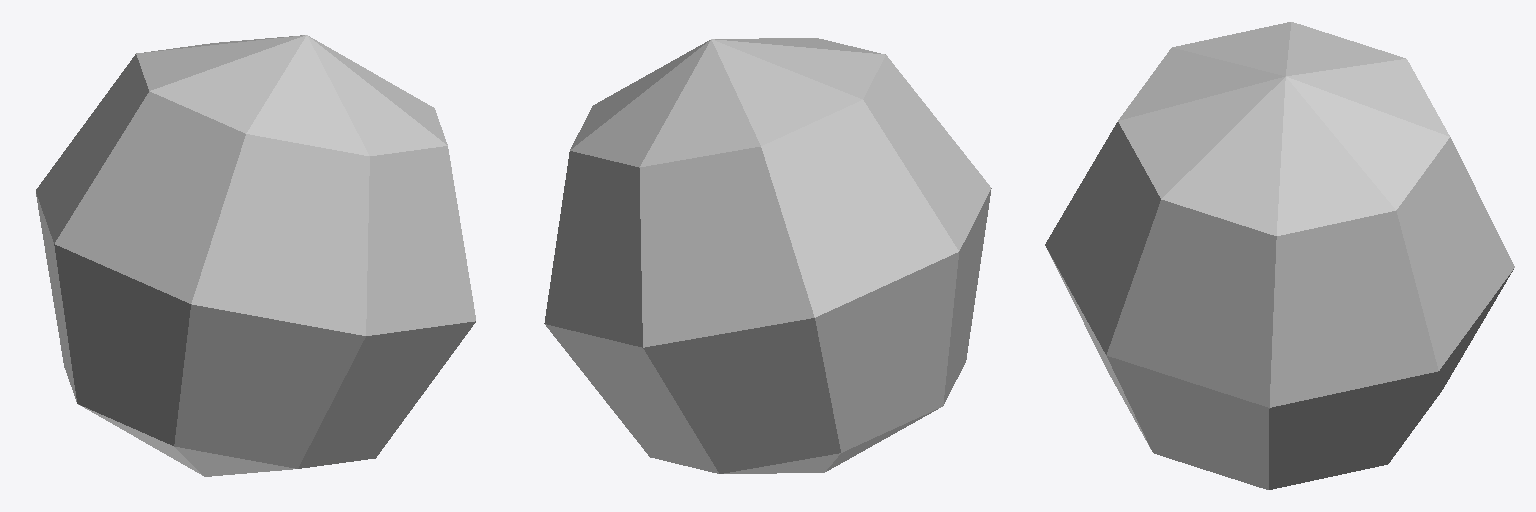
File: Boll03.obj
3 views of the same model, side by side, from view 1: azimuth 30°, elevation 25°; view 2: azimuth 150°, elevation 25°; view 3: azimuth 270°, elevation 25° (orthographic).
Visible parts, largest first — view 1: Boll03; view 2: Boll03; view 3: Boll03.
Boxes of the visible parts, x1,y1,x2,y2 form: Boll03: [36, 35, 475, 476]; Boll03: [544, 38, 991, 473]; Boll03: [1045, 22, 1514, 489].
Size of the model in its own units: 18.07 by 18.08 by 18.72.